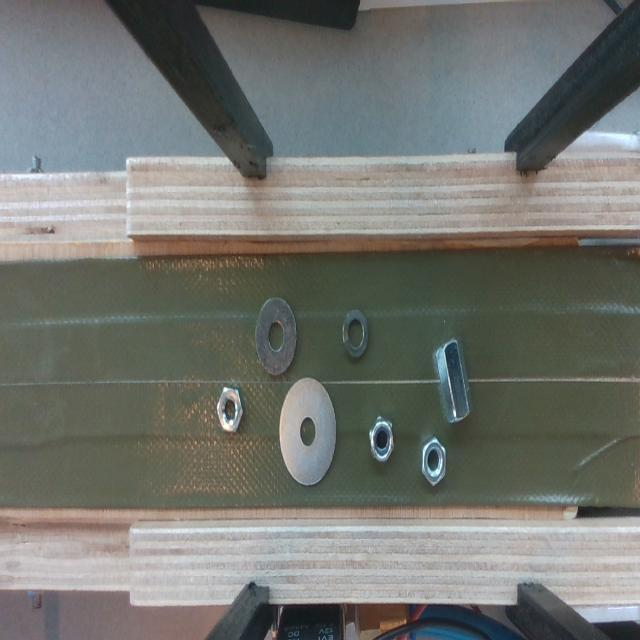Nut: (431, 333, 473, 433), (213, 380, 250, 439), (366, 412, 401, 469), (419, 430, 451, 490)
Washer: (278, 376, 342, 491), (247, 292, 302, 380), (340, 309, 370, 361)
